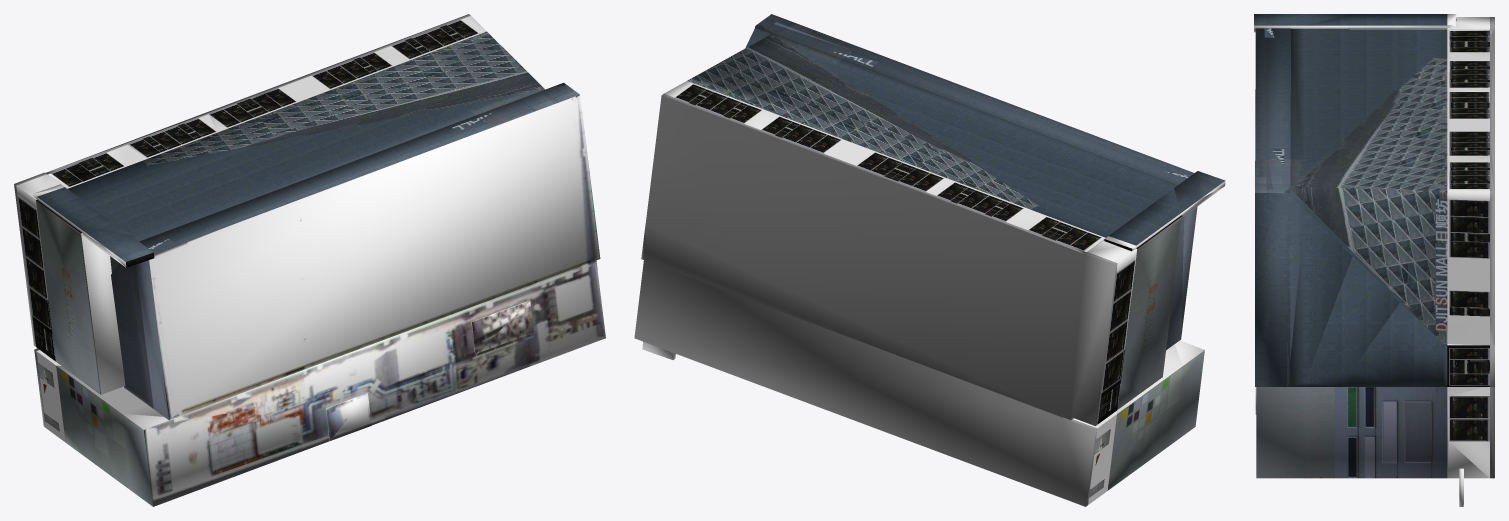
Rendered from amk_djitsun_building.obj.
The picture shows the model from 3 angles, left to right: view 1: azimuth 30°, elevation 25°; view 2: azimuth 150°, elevation 25°; view 3: azimuth 270°, elevation 25°; orthographic projection. The views are drawn at different scales.
Parts seen in each view (by area): view 1: polygon.879; view 2: polygon.879; view 3: polygon.879.
Part boxes in pixels (left/top/right/bottom): polygon.879: left=14, top=14, right=605, bottom=506; polygon.879: left=634, top=14, right=1225, bottom=506; polygon.879: left=1254, top=14, right=1494, bottom=506.
Size of the model in its own units: 60.46 by 36.56 by 23.84.
Materials: 1 (1 with a texture image).
